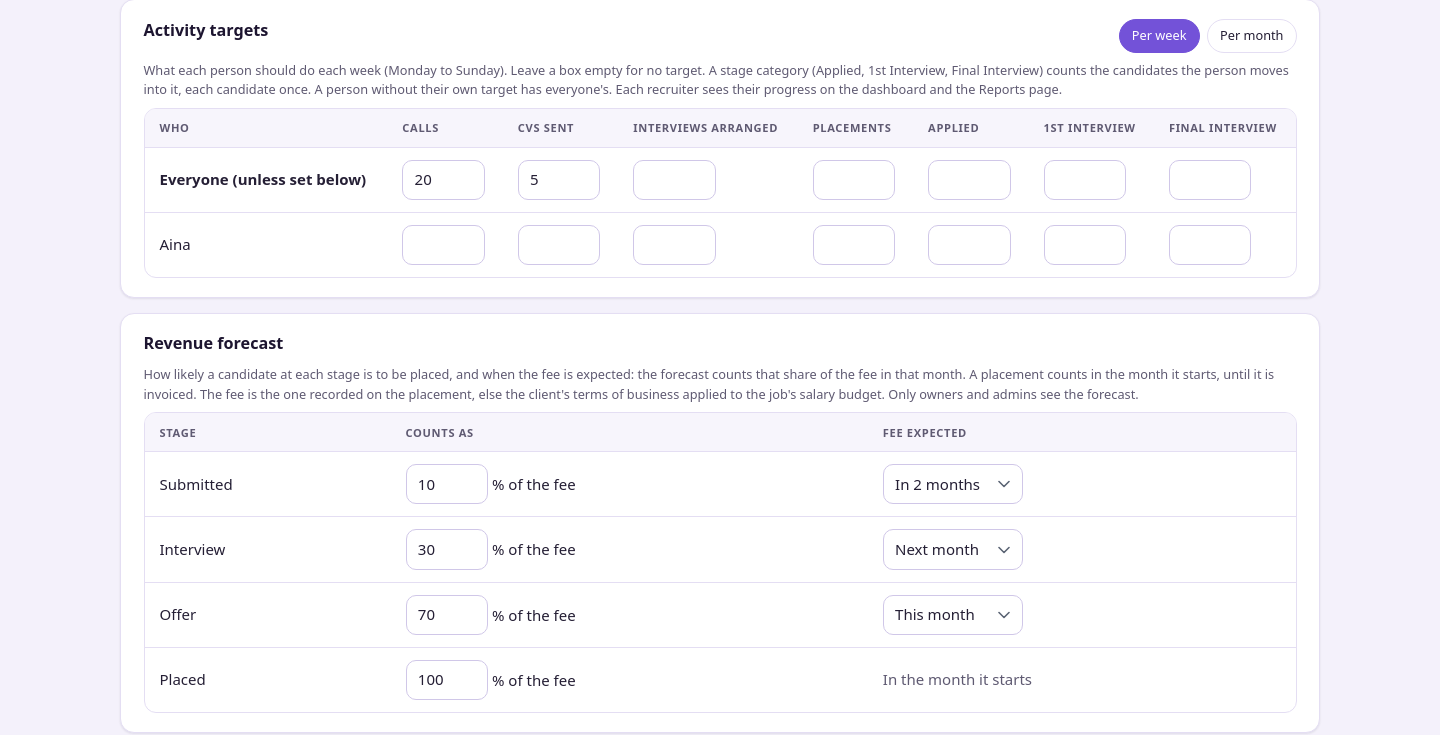
targets and forecast settings › says whose target a problem is about
Step 1. Replace the text in the number field named "Everyone (unless set below): Calls per week" with "30" → (444, 180), box [402,160,485,200]
(page scrolled)
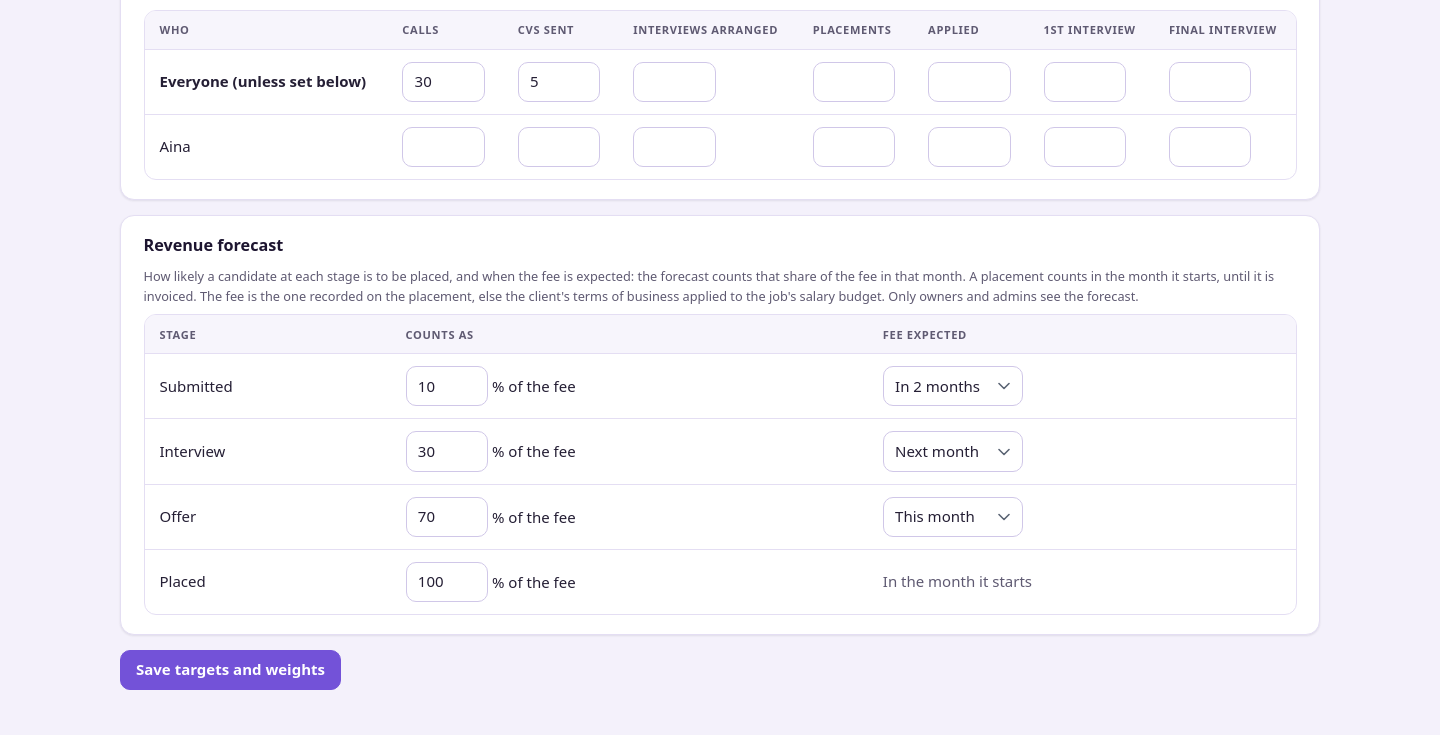
Expected: the number field named "Aina: Calls per week" is shown, [402,127,485,167]
Step 2. Click the button "Save targets and weights" → (230, 670), box [120,650,341,690]
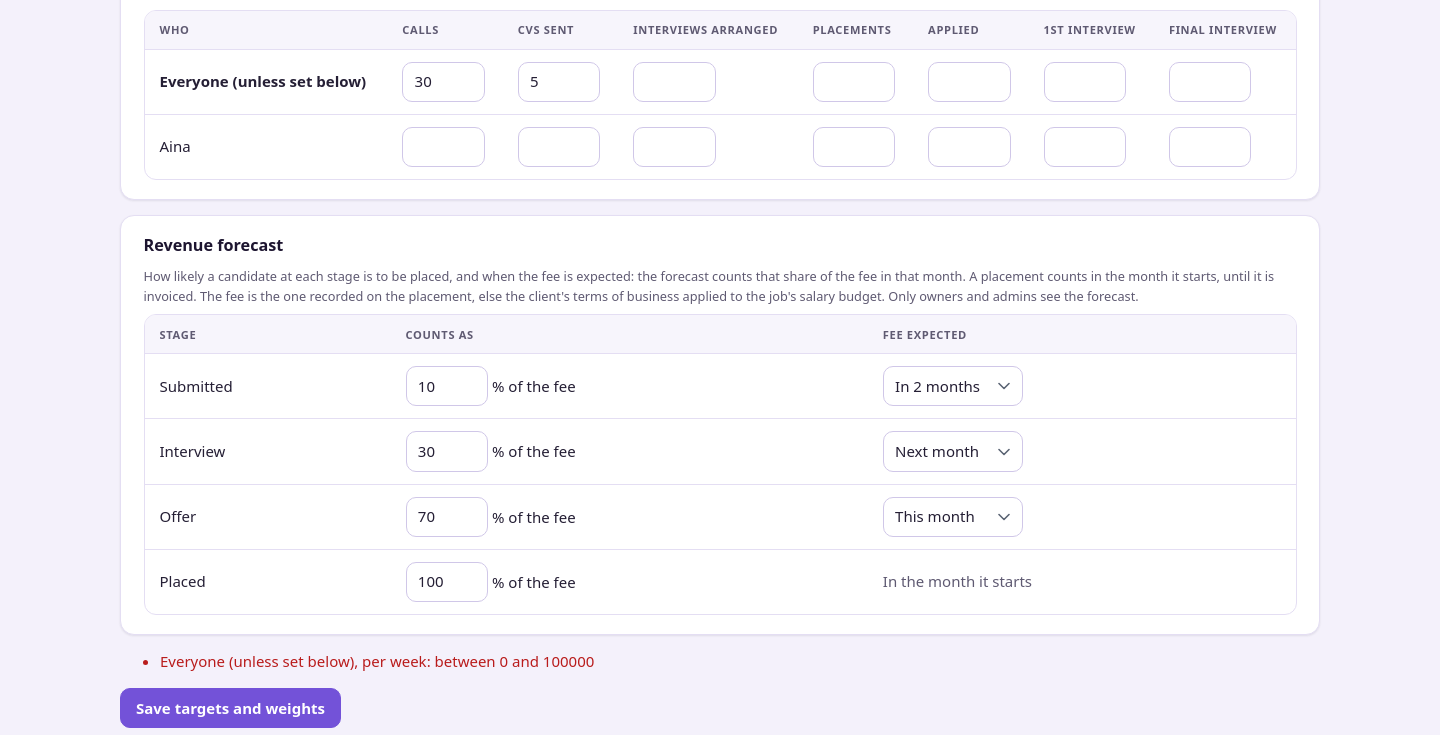
Expected: the list item "Everyone (unless set below), per week: between 0 and 100000" is shown, [160,651,594,671]
